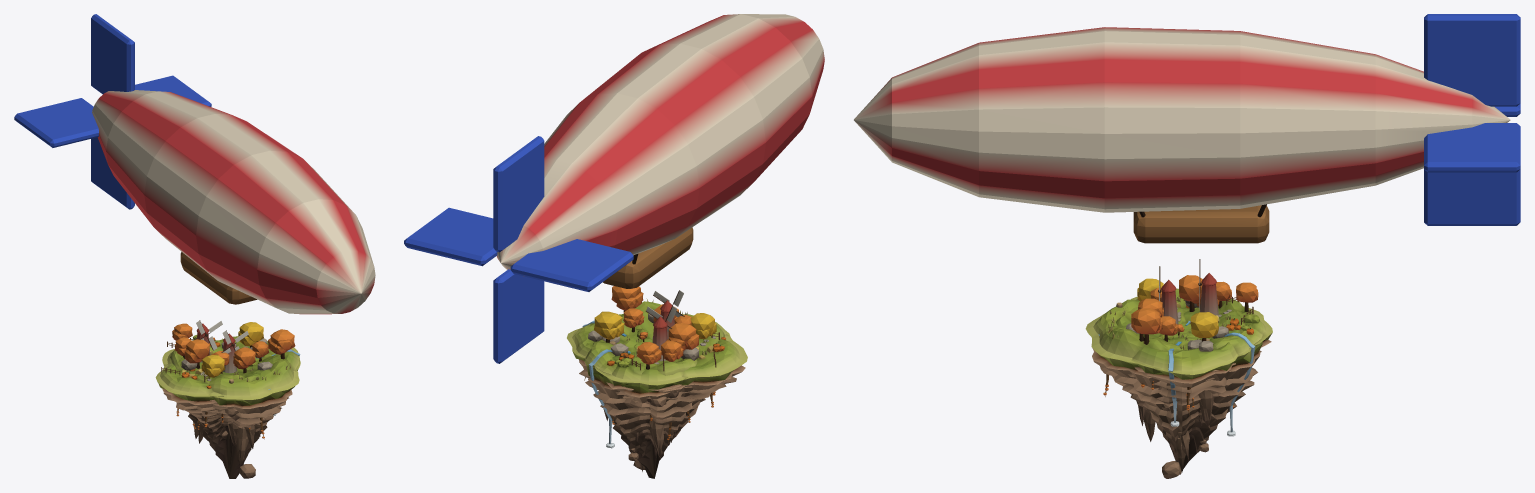
Rendered from isle-grove-DE3QAZQ2.glb.
3 views of the same model, side by side, from view 1: azimuth 30°, elevation 25°; view 2: azimuth 150°, elevation 25°; view 3: azimuth 270°, elevation 25° (orthographic). The views are drawn at different scales.
Parts seen in each view (by area): view 1: far, isle_2, isle_1, isle_0; view 2: far, isle_2, isle_1, isle_0; view 3: far, isle_2, isle_1, isle_0.
Part boxes in pixels (x1=…): far: x1=14, y1=14, x2=375, y2=314; isle_2: x1=167, y1=320, x2=299, y2=478; isle_1: x1=155, y1=329, x2=300, y2=444; isle_0: x1=162, y1=323, x2=300, y2=445; far: x1=404, y1=14, x2=824, y2=363; isle_2: x1=584, y1=288, x2=730, y2=478; isle_1: x1=567, y1=286, x2=747, y2=441; isle_0: x1=584, y1=313, x2=732, y2=432; far: x1=854, y1=14, x2=1520, y2=243; isle_2: x1=1085, y1=259, x2=1262, y2=478; isle_1: x1=1116, y1=266, x2=1240, y2=426; isle_0: x1=1098, y1=278, x2=1272, y2=425.
Bounding box in the file's own units: 120 × 261 × 345.
